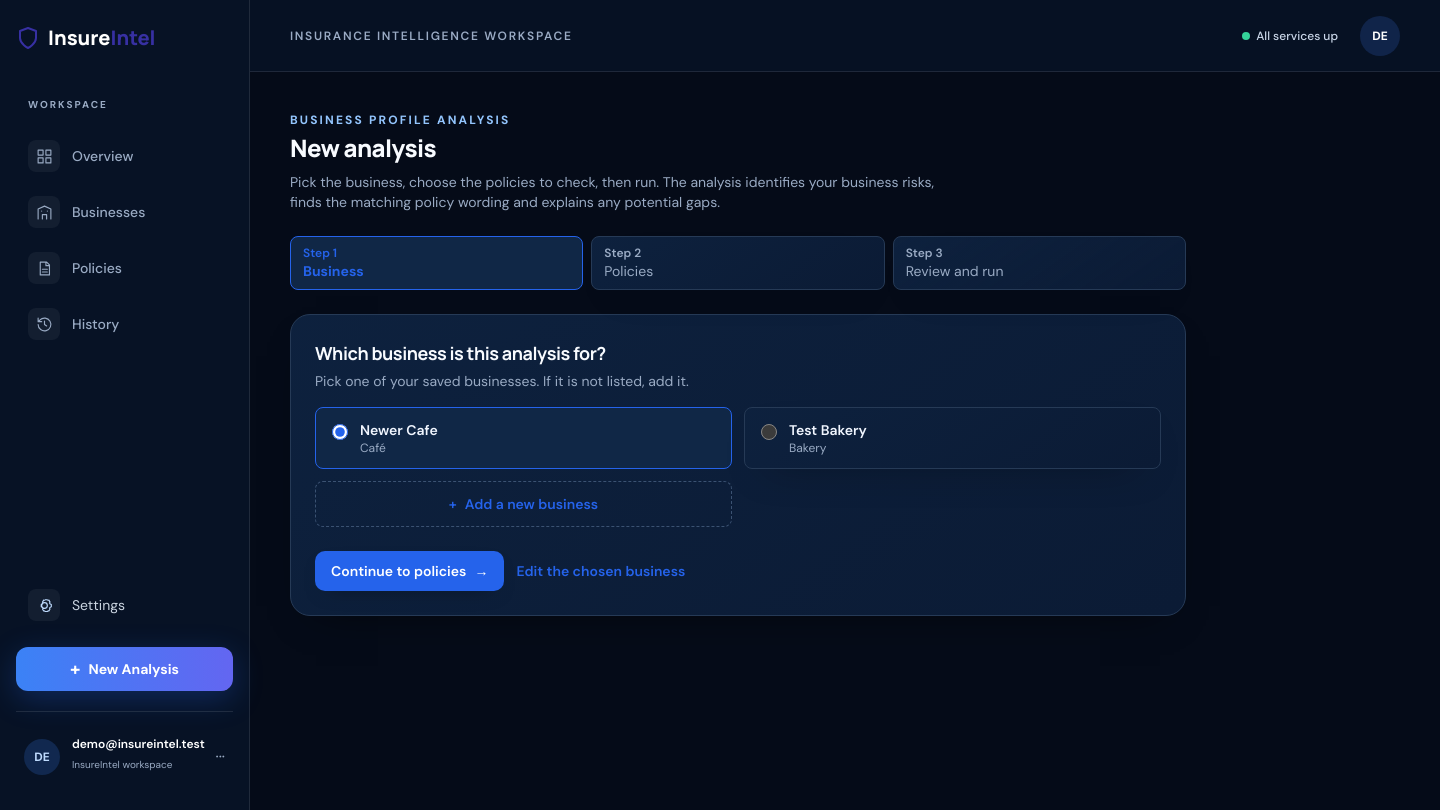
Scenario: new analysis: step 1, the business › lists the saved businesses, picks the latest, and moves on to the policies
Expected: the heading "New analysis" is shown, [290,131,436,164]
Expected: the radio button labelled "Newer Cafe Café" is checked, [332,424,348,440]
Step 1. Click the radio button labelled "Test Bakery Bakery" → [769, 432], box [761,424,777,440]
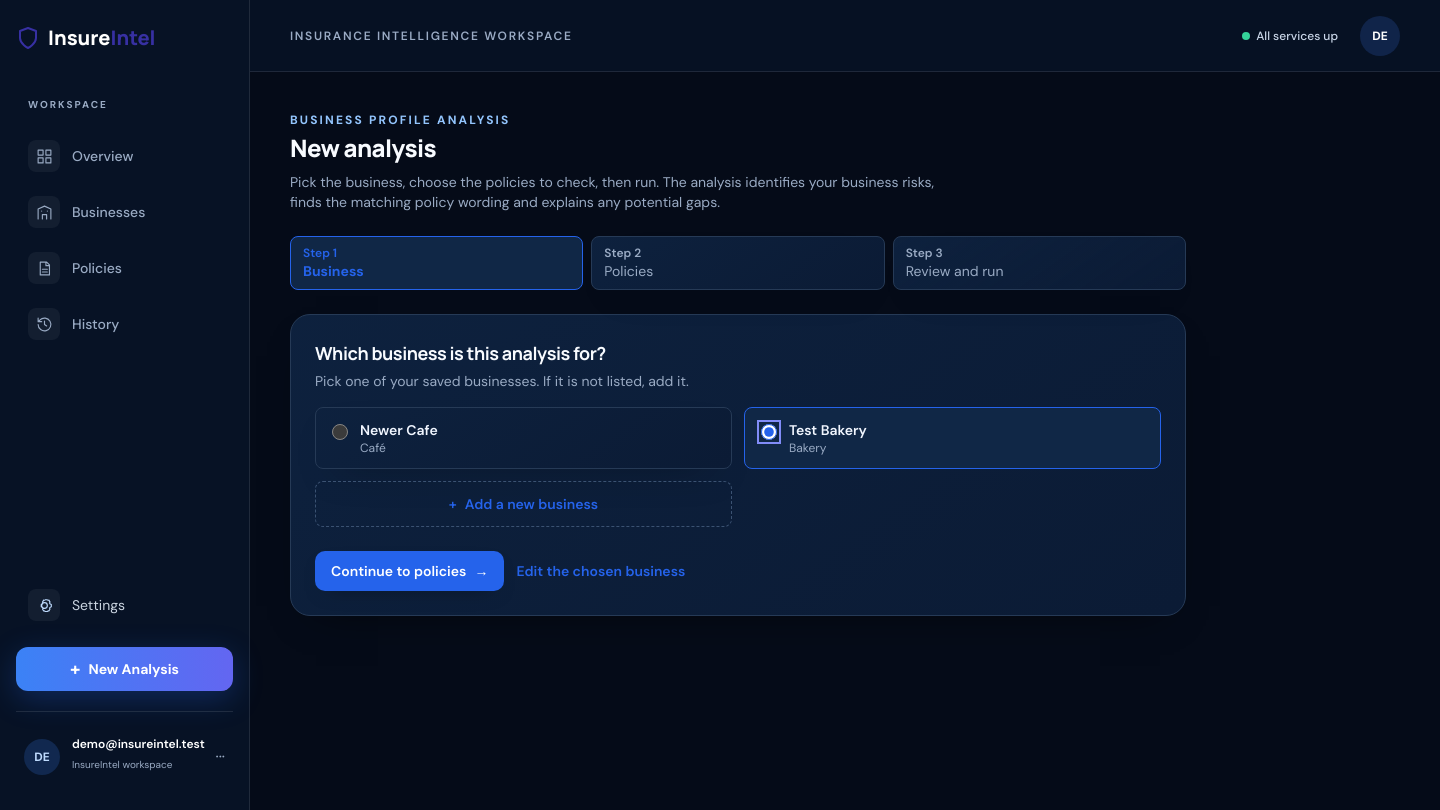
Step 2. Click the button "Continue to policies →" → [410, 571], box [315,551,504,591]
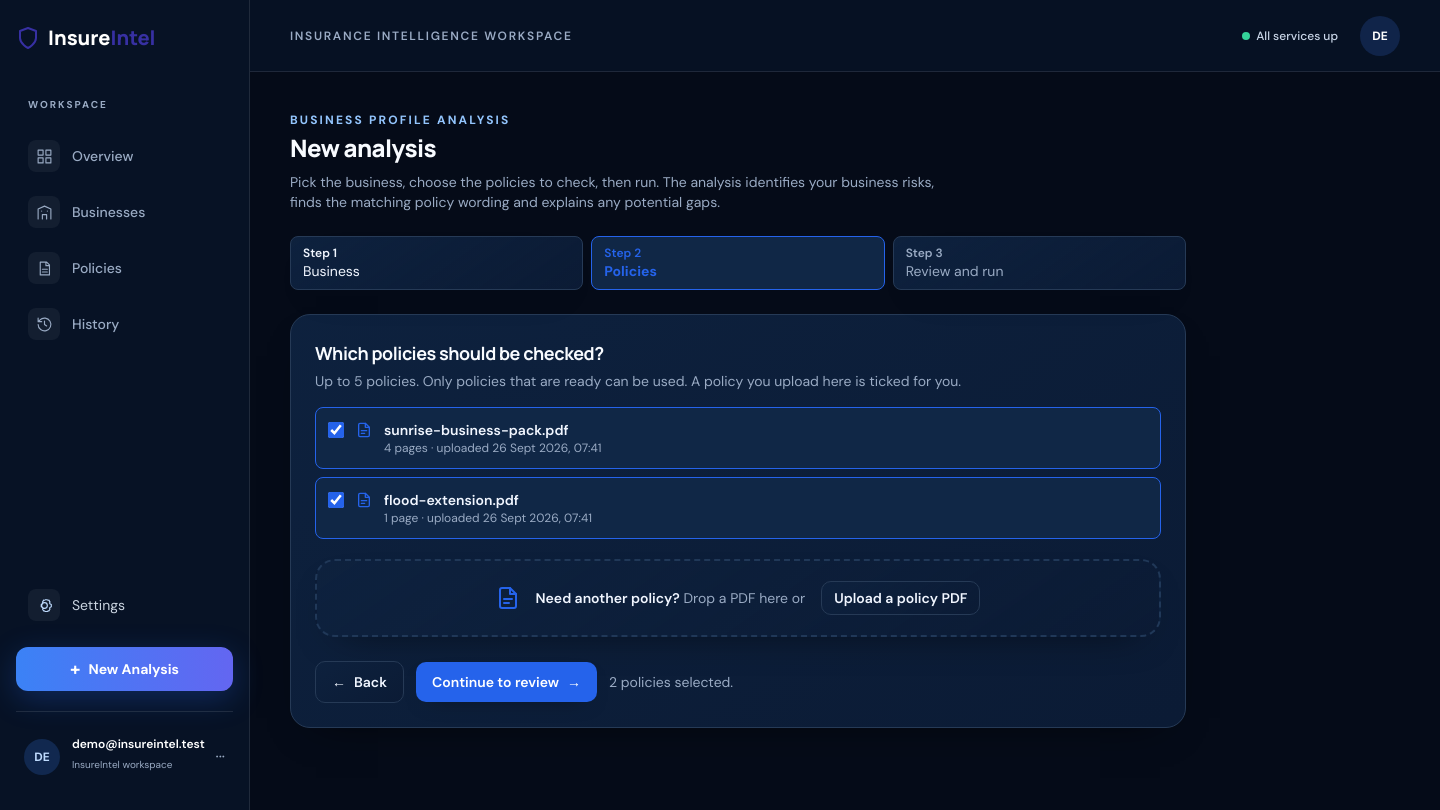
Expected: the list item "Step 2 Policies" is shown, [591,236,885,290]
Result: the heading "Which policies should be checked?" is shown at [315,341,604,365]
# Back keeps the choice: no need to fill anything in again.
Step 3. Click the button "← Back" → [360, 682], box [315,661,404,703]
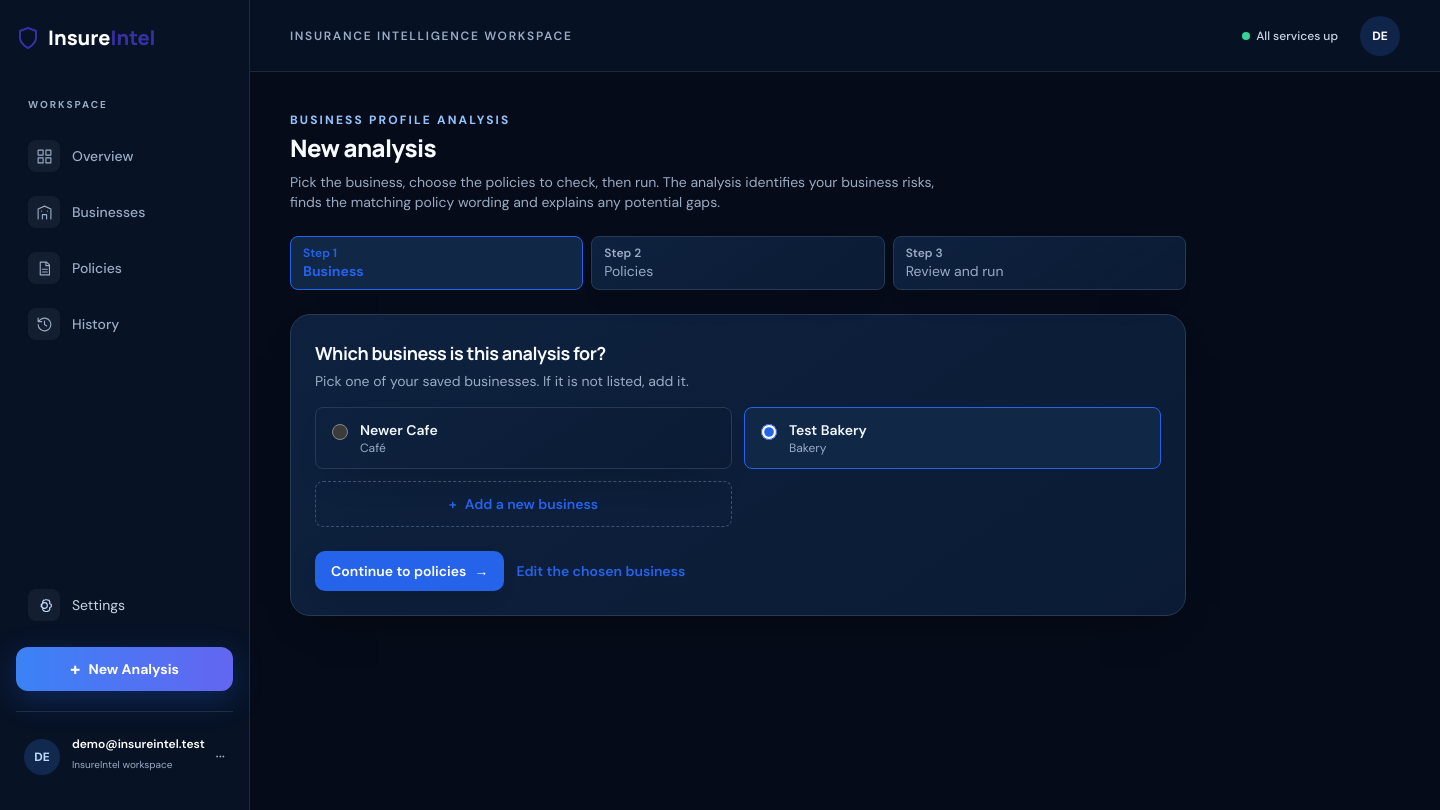
Result: the radio button labelled "Test Bakery Bakery" is checked at [761,424,777,440]
